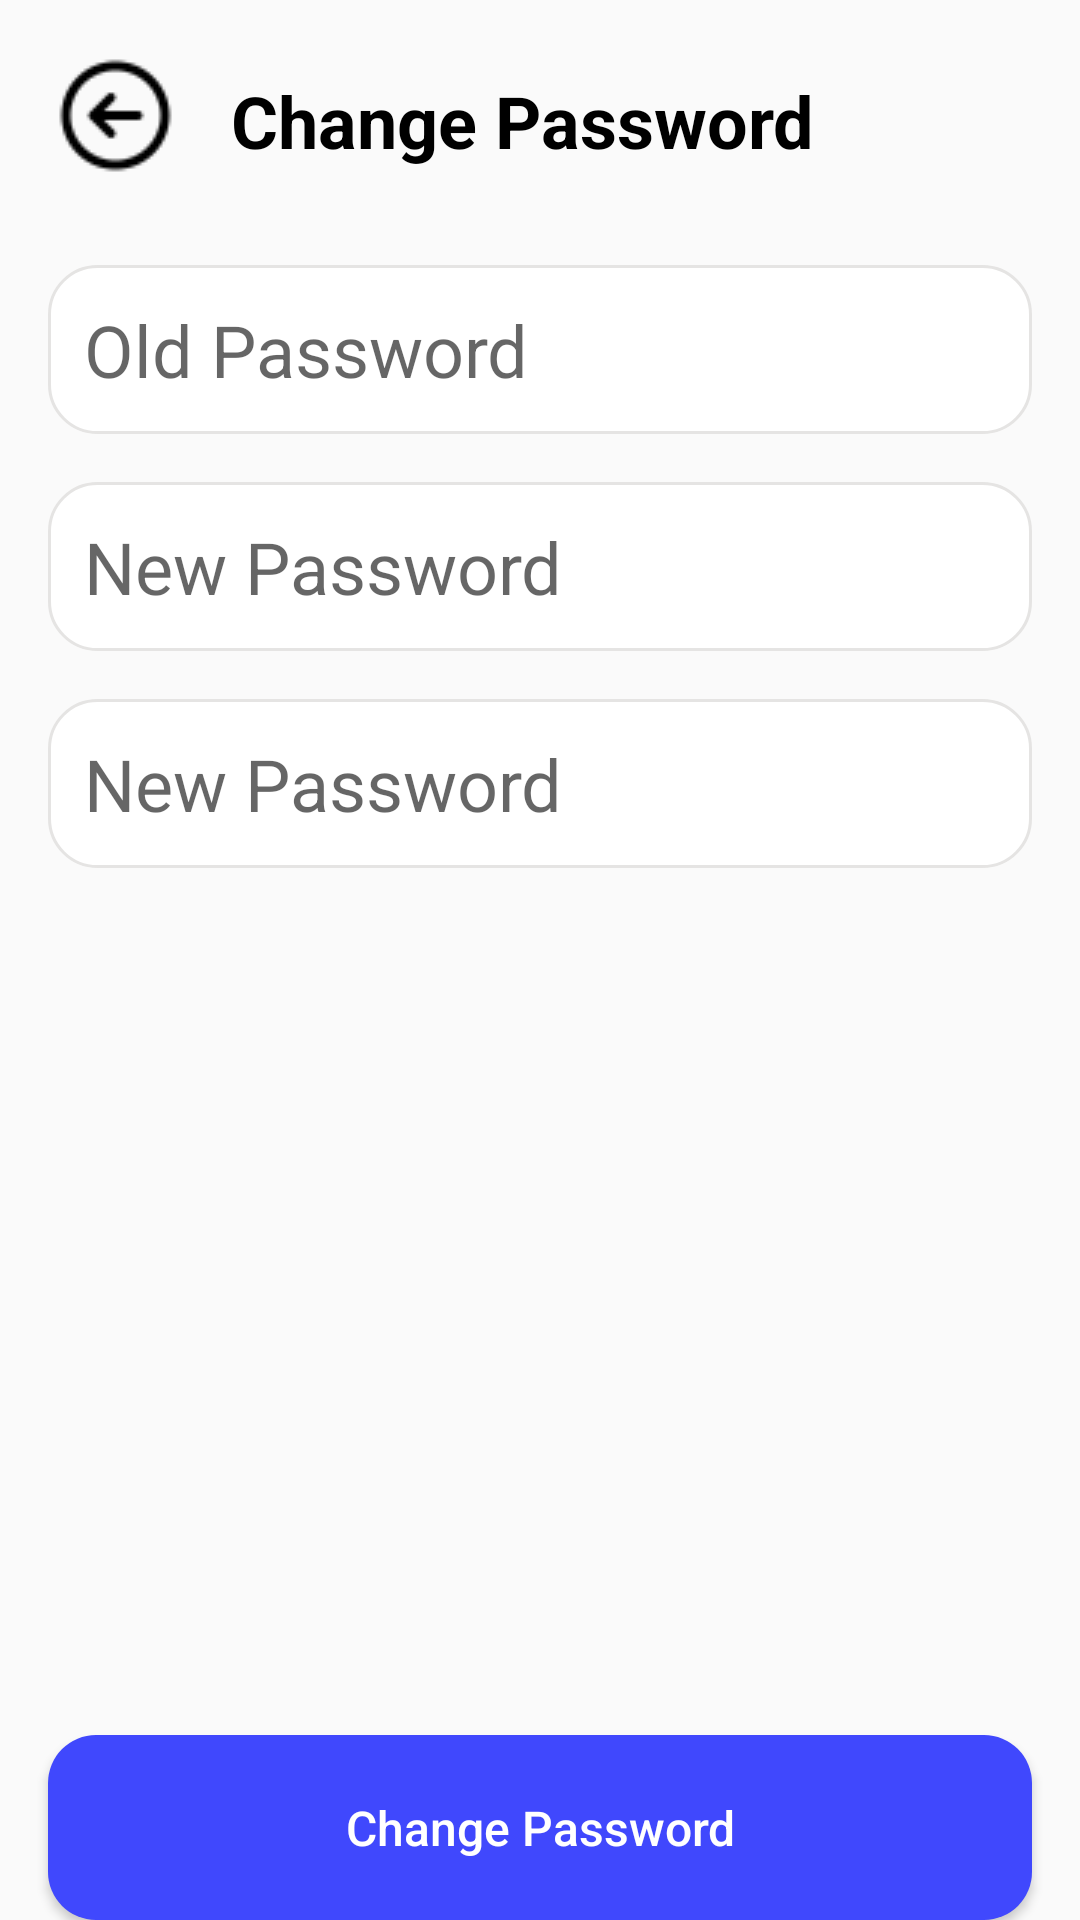

Named icons in this screenshot (1080 x 1920) and their centers, [x,y]:
Back: [115,115]
